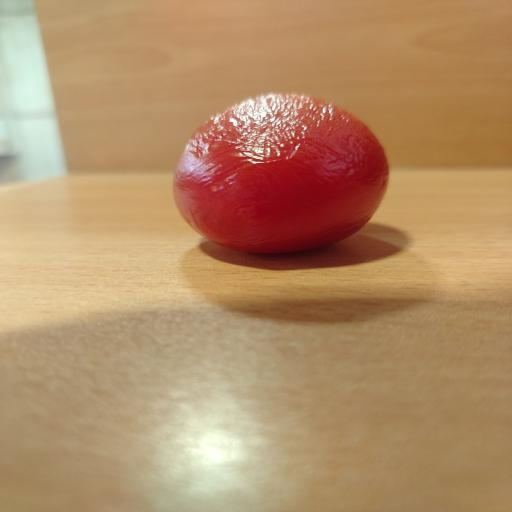spoiled: (174, 94, 388, 253)
